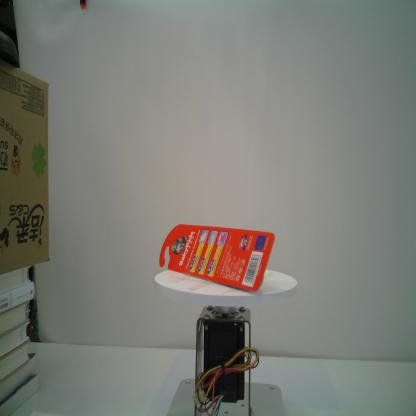Personal Hygiene: (159, 223, 275, 293)
